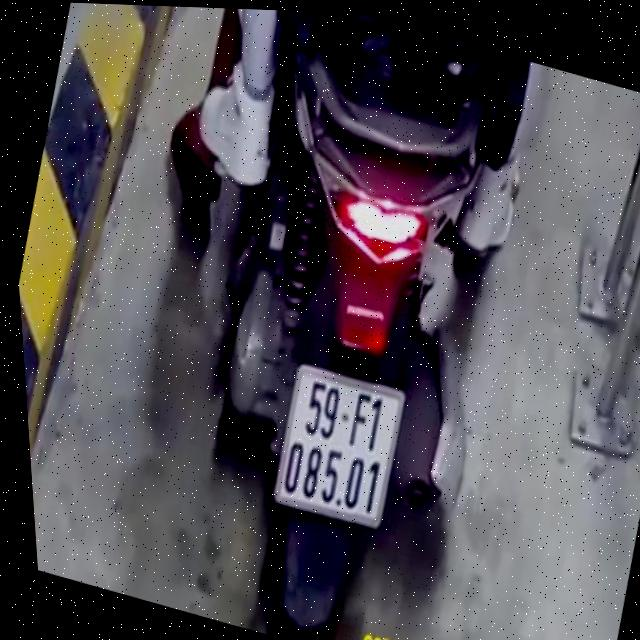motorcycle: (103, 4, 573, 640)
plate: (258, 359, 420, 539)
